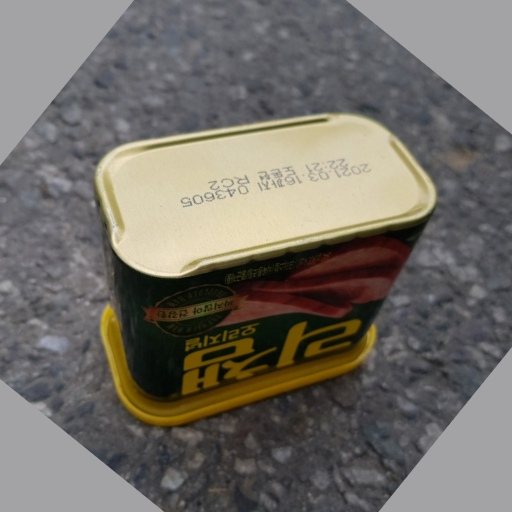Metal_2: (89, 116, 439, 422)
